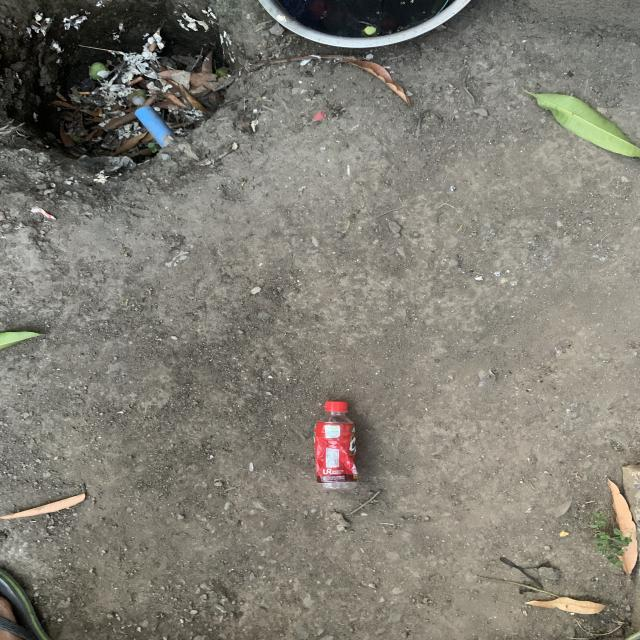Bottle: (314, 401, 359, 490)
